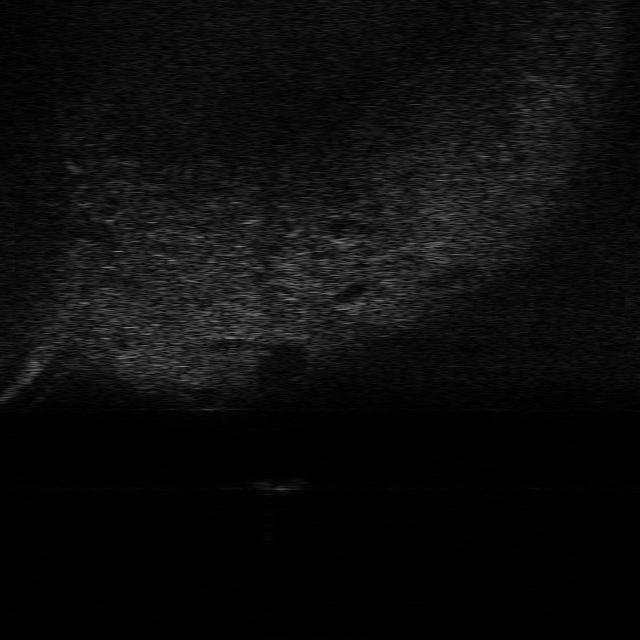cube: (252, 472, 308, 495)
